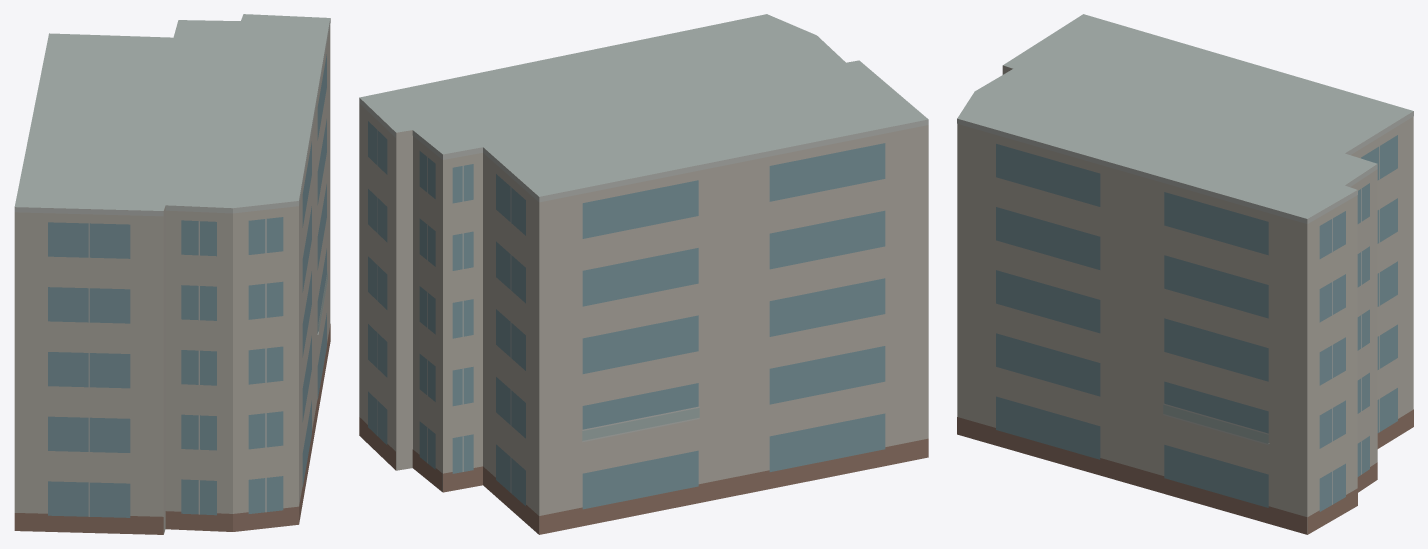
File: survey-upis-32722335.glb
3 views of the same model, side by side, from view 1: azimuth 30°, elevation 25°; view 2: azimuth 150°, elevation 25°; view 3: azimuth 270°, elevation 25° (orthographic). The views are drawn at different scales.
Visible parts, largest first — view 1: survey-upis-32722335.tmp; view 2: survey-upis-32722335.tmp; view 3: survey-upis-32722335.tmp.
Boxes of the visible parts, left/top/right/bottom form: survey-upis-32722335.tmp: left=14, top=14, right=330, bottom=534; survey-upis-32722335.tmp: left=359, top=14, right=928, bottom=534; survey-upis-32722335.tmp: left=957, top=14, right=1413, bottom=534.
Bounding box in the file's own units: 20.74 × 14.9 × 19.53.
